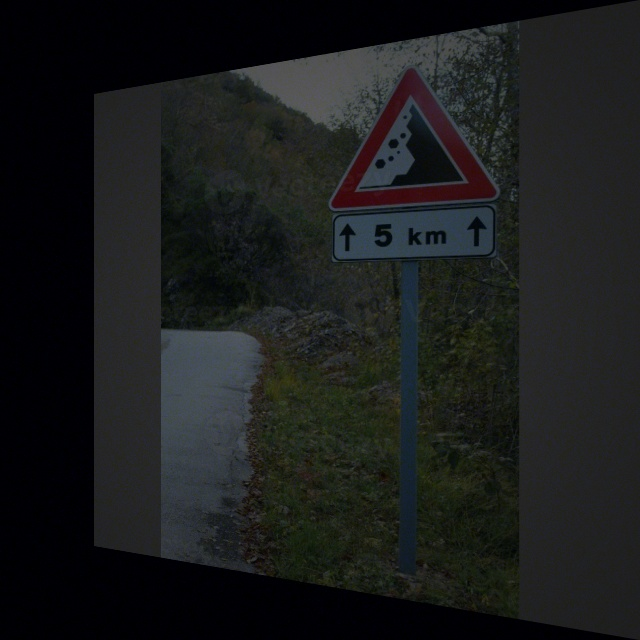Falling_Rocks: (329, 54, 498, 211)
